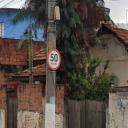speed_limit_50: (47, 49, 61, 70)
